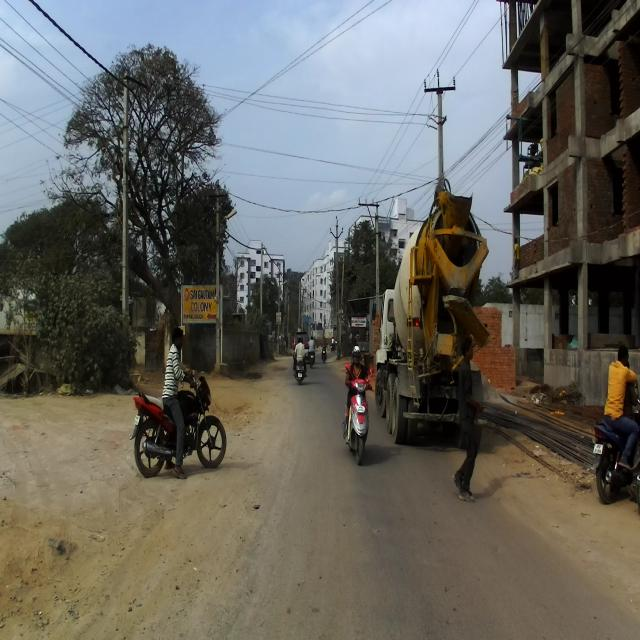electric pole ahead at: (110, 62, 134, 374)
motorcycle ahead at: (129, 375, 230, 477), (594, 410, 634, 500), (342, 363, 374, 464)
person ahead at: (451, 332, 484, 500)
